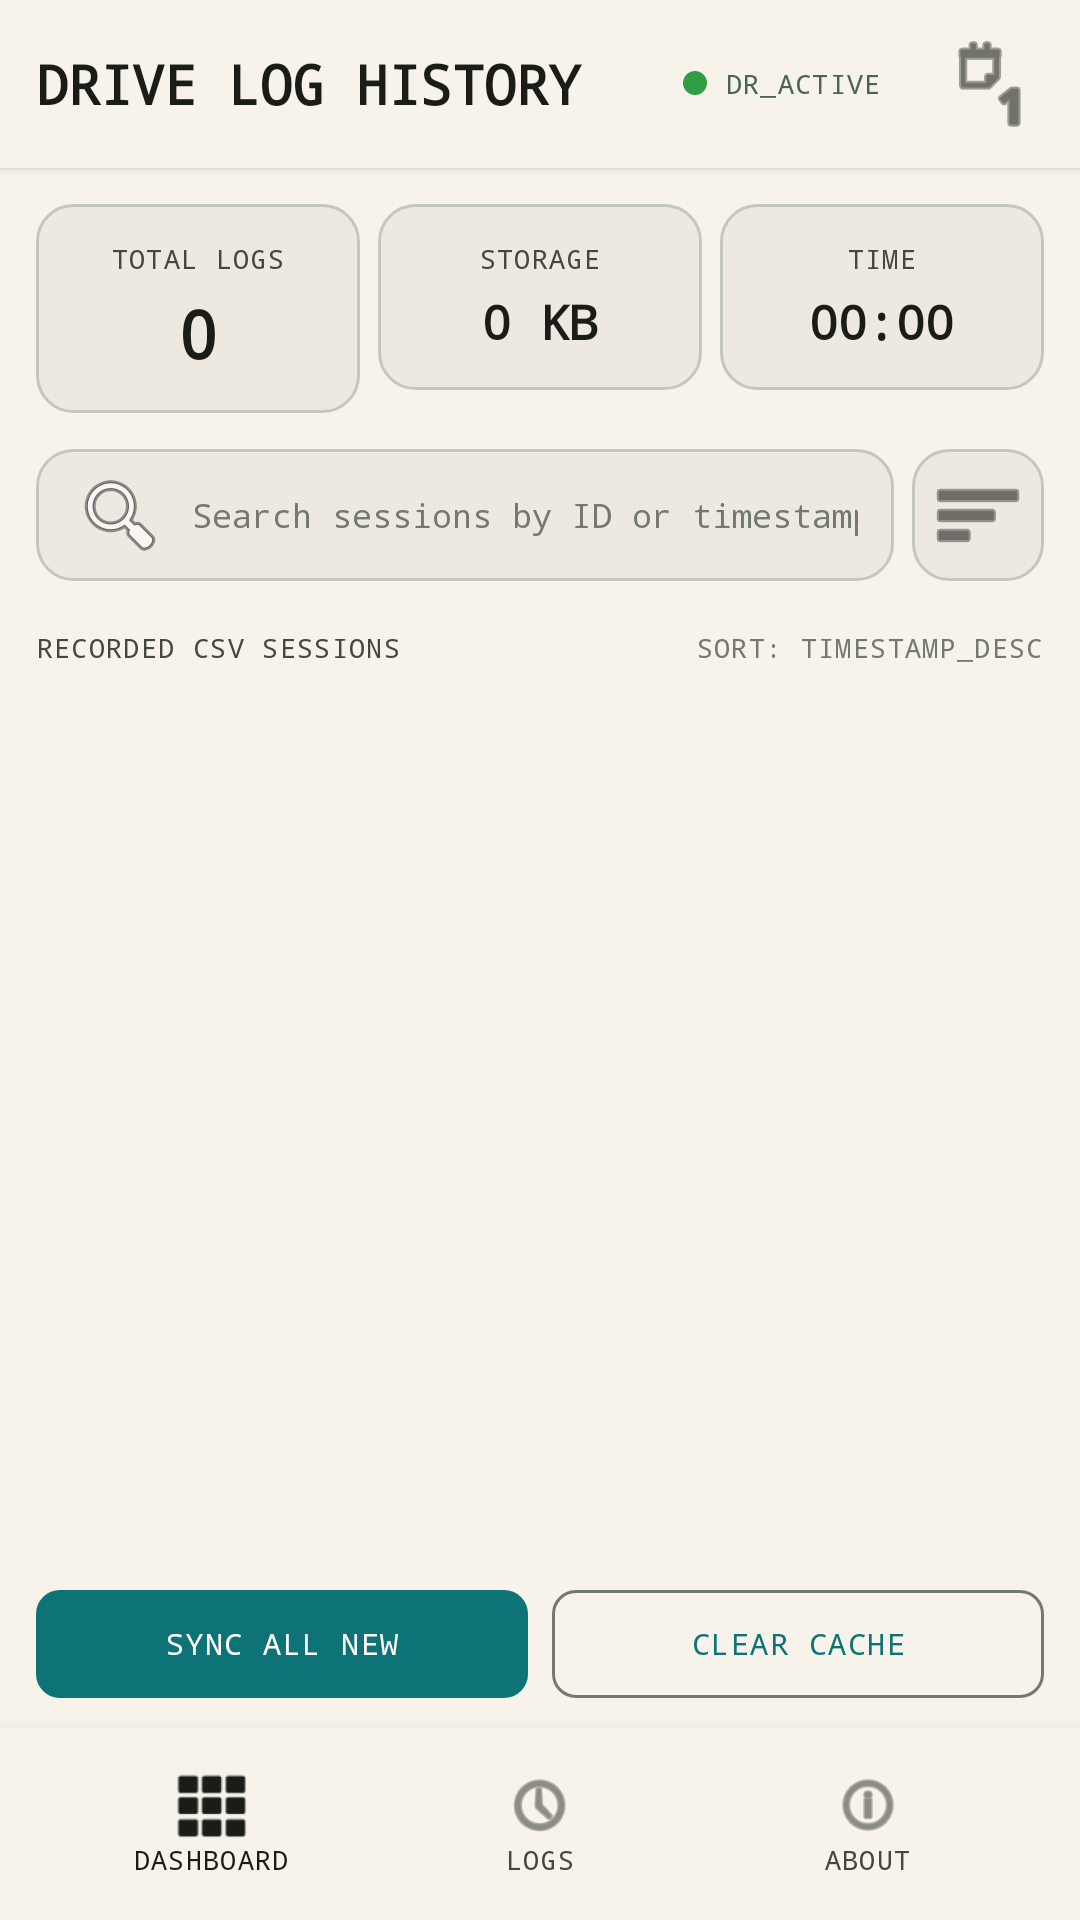

Point at icon controls on the screen. Image size 1080x1920, points as (x=x, y=y).
Filter Sessions: (x=978, y=515)
